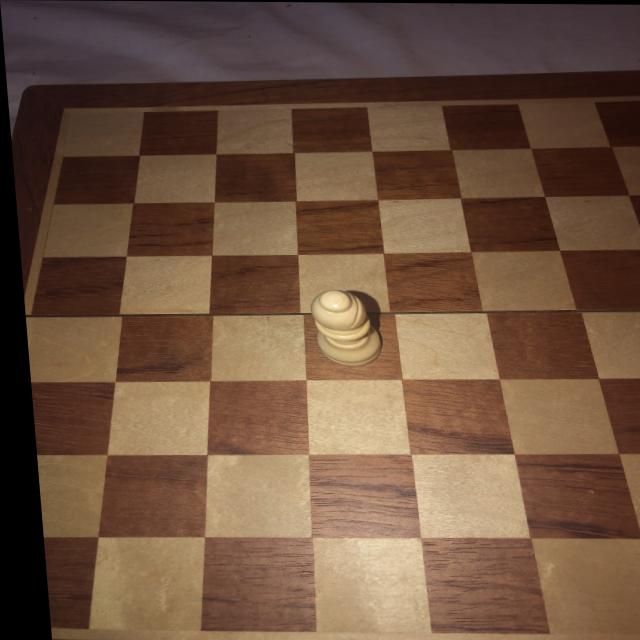white_bishop: (303, 287, 379, 367)
